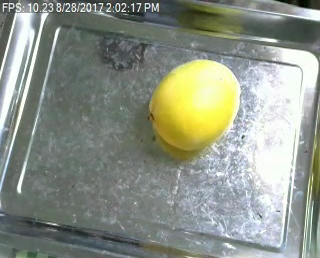Mango: (149, 59, 239, 150)
